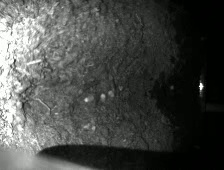corn: (83, 94, 94, 103), (100, 93, 106, 102), (107, 90, 114, 97), (118, 85, 125, 91), (169, 84, 175, 90)
